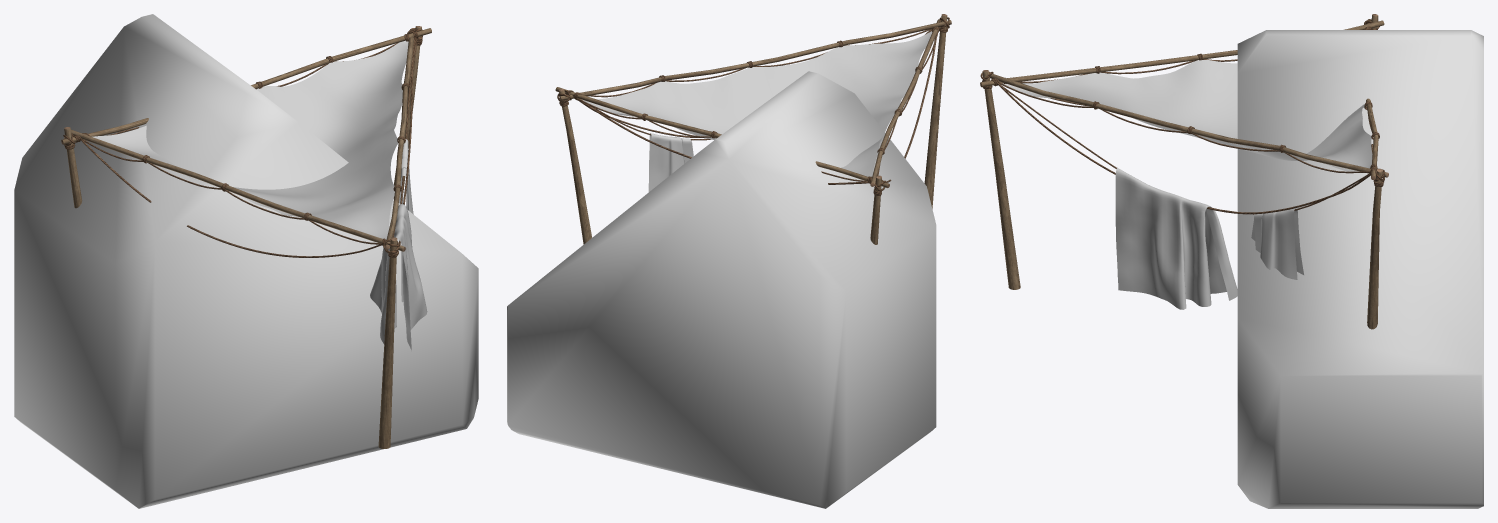
The model's file is SM_TradingTent_B.fbx.
The picture shows the model from 3 angles, left to right: view 1: azimuth 30°, elevation 25°; view 2: azimuth 150°, elevation 25°; view 3: azimuth 270°, elevation 25°; orthographic projection. The views are drawn at different scales.
Visible parts, largest first — view 1: SM_TradingTent_B_ConvexHulls, SM_TradingTent_B; view 2: SM_TradingTent_B_ConvexHulls, SM_TradingTent_B; view 3: SM_TradingTent_B_ConvexHulls, SM_TradingTent_B.
Boxes of the visible parts, box(x1,y1,x2,y2) form: SM_TradingTent_B_ConvexHulls: box(14, 14, 478, 508); SM_TradingTent_B: box(61, 26, 431, 448); SM_TradingTent_B_ConvexHulls: box(507, 71, 936, 508); SM_TradingTent_B: box(555, 14, 951, 244); SM_TradingTent_B_ConvexHulls: box(1237, 30, 1483, 508); SM_TradingTent_B: box(980, 14, 1388, 329).
Size of the model in its own units: 4.89 by 4.79 by 5.9.
